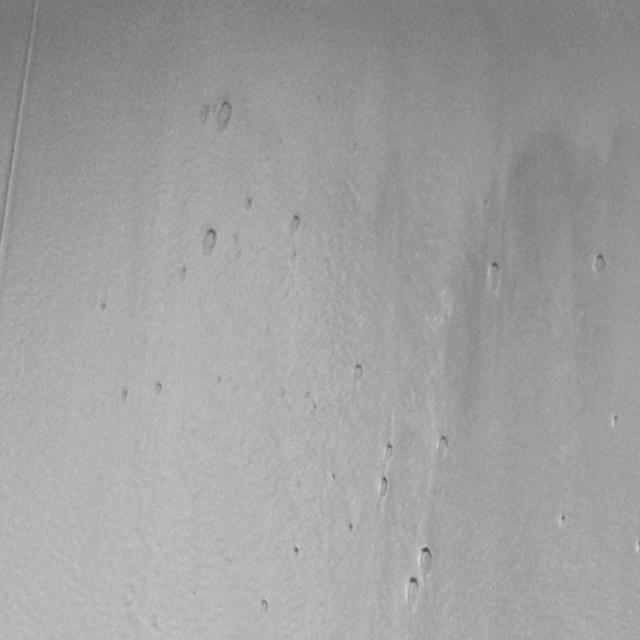pin holes: (211, 99, 236, 135), (482, 259, 504, 293), (197, 227, 220, 257), (588, 250, 610, 280), (403, 576, 423, 608), (432, 432, 453, 460), (416, 547, 436, 575), (284, 212, 304, 238), (148, 379, 167, 405), (375, 474, 393, 500), (254, 598, 272, 621), (380, 440, 396, 464), (348, 362, 366, 383), (174, 264, 190, 285), (114, 388, 130, 408), (240, 193, 256, 213), (607, 411, 621, 432), (94, 298, 108, 315), (557, 511, 569, 528), (288, 545, 301, 560), (326, 471, 338, 485), (344, 521, 354, 536), (633, 539, 640, 557)
